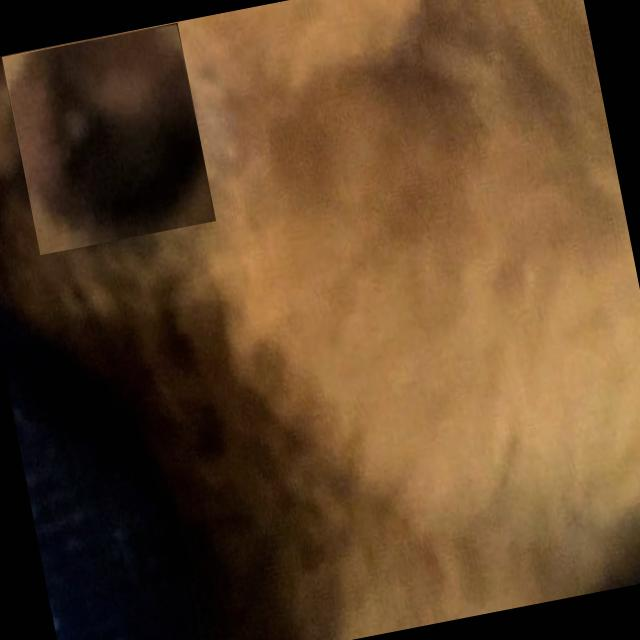fem: (8, 24, 214, 247)
